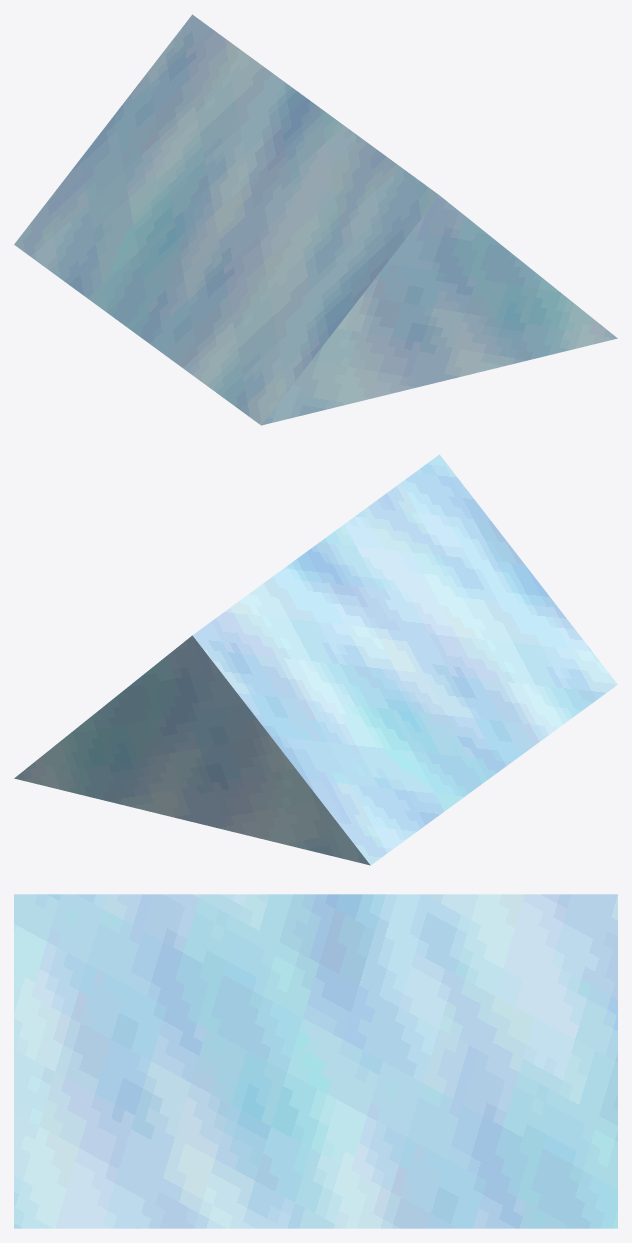
Rendered from sl_ice_brock.glb.
The picture shows the model from 3 angles, top to bottom: view 1: azimuth 30°, elevation 25°; view 2: azimuth 150°, elevation 25°; view 3: azimuth 270°, elevation 25°; orthographic projection. The views are drawn at different scales.
Parts seen in each view (by area): view 1: sl_ice_brock; view 2: sl_ice_brock; view 3: sl_ice_brock.
Boxes of the visible parts, bbox=[...] form: sl_ice_brock: bbox=[14, 14, 617, 425]; sl_ice_brock: bbox=[14, 454, 617, 865]; sl_ice_brock: bbox=[14, 894, 617, 1228].
Bounding box in the file's own units: 50 × 25 × 60.
Materials: 1 (1 with a texture image).
